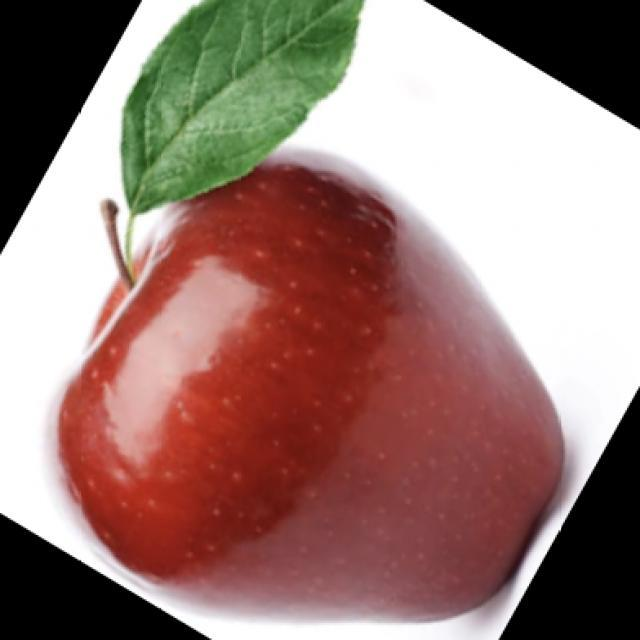Fresh Apple: (49, 125, 564, 624)
